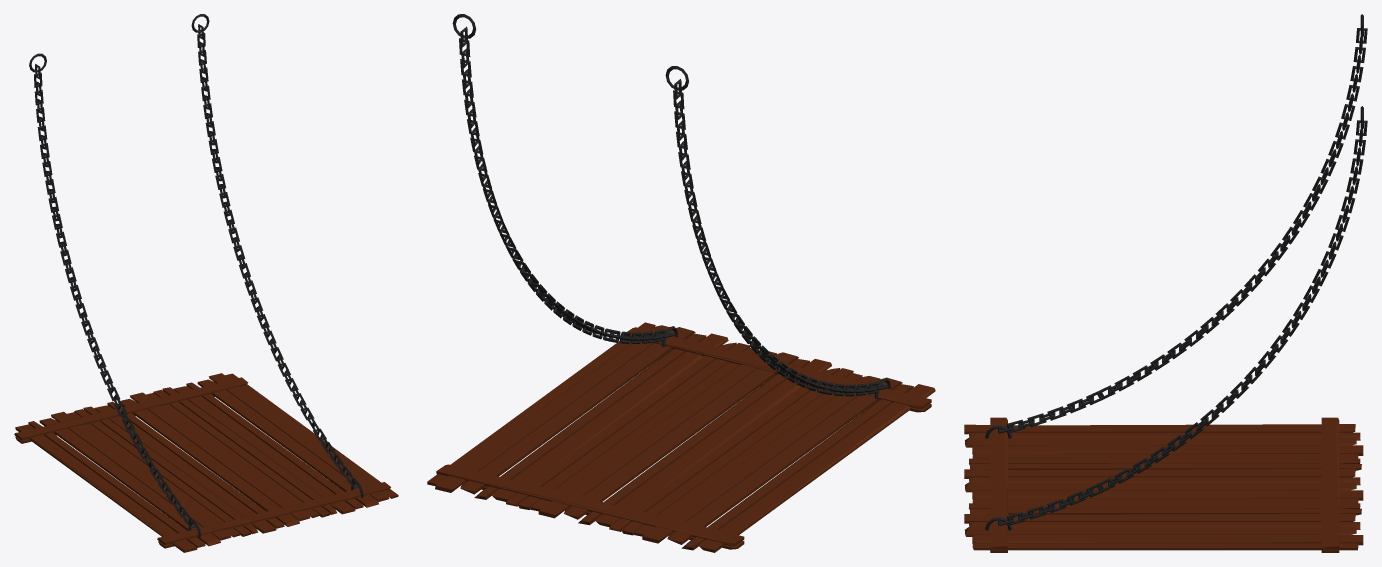
File: SM_gate_wooden_castle.fbx
3 renders of one model, left to right at view 1: azimuth 30°, elevation 25°; view 2: azimuth 150°, elevation 25°; view 3: azimuth 270°, elevation 25°, orthographic. The views are drawn at different scales.
Visible parts, largest first — view 1: Object109; view 2: Object109; view 3: Object109.
Boxes of the visible parts, x1,y1,x2,y2 form: Object109: [14, 14, 398, 552]; Object109: [427, 14, 935, 552]; Object109: [964, 14, 1367, 552].
Size of the model in its own units: 198 by 263 by 312.
